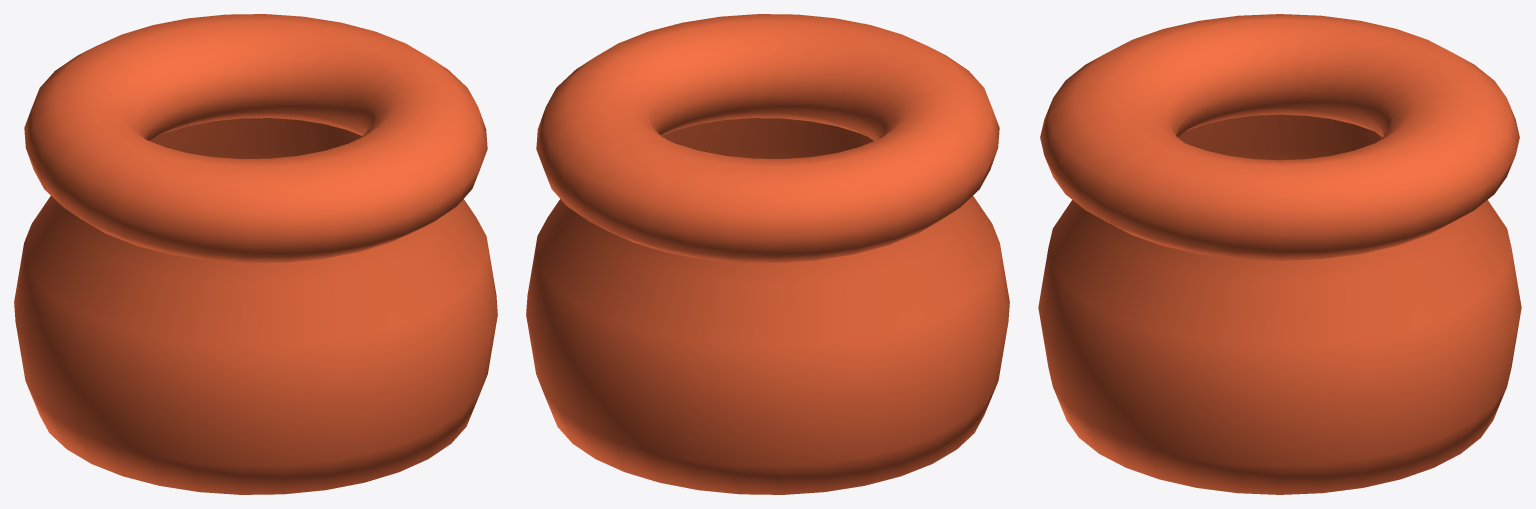
The model's file is Farmhouse_ROOM_pot_v01.glb.
3 renders of one model, left to right at view 1: azimuth 30°, elevation 25°; view 2: azimuth 150°, elevation 25°; view 3: azimuth 270°, elevation 25°, orthographic.
Visible parts, largest first — view 1: Farmhouse_ROOM_pot_v01; view 2: Farmhouse_ROOM_pot_v01; view 3: Farmhouse_ROOM_pot_v01.
Part boxes in pixels (x1=…): Farmhouse_ROOM_pot_v01: x1=14, y1=14, x2=497, y2=494; Farmhouse_ROOM_pot_v01: x1=526, y1=14, x2=1009, y2=494; Farmhouse_ROOM_pot_v01: x1=1038, y1=14, x2=1521, y2=494.
Bounding box in the file's own units: 0.6422 × 0.4507 × 0.6382.
